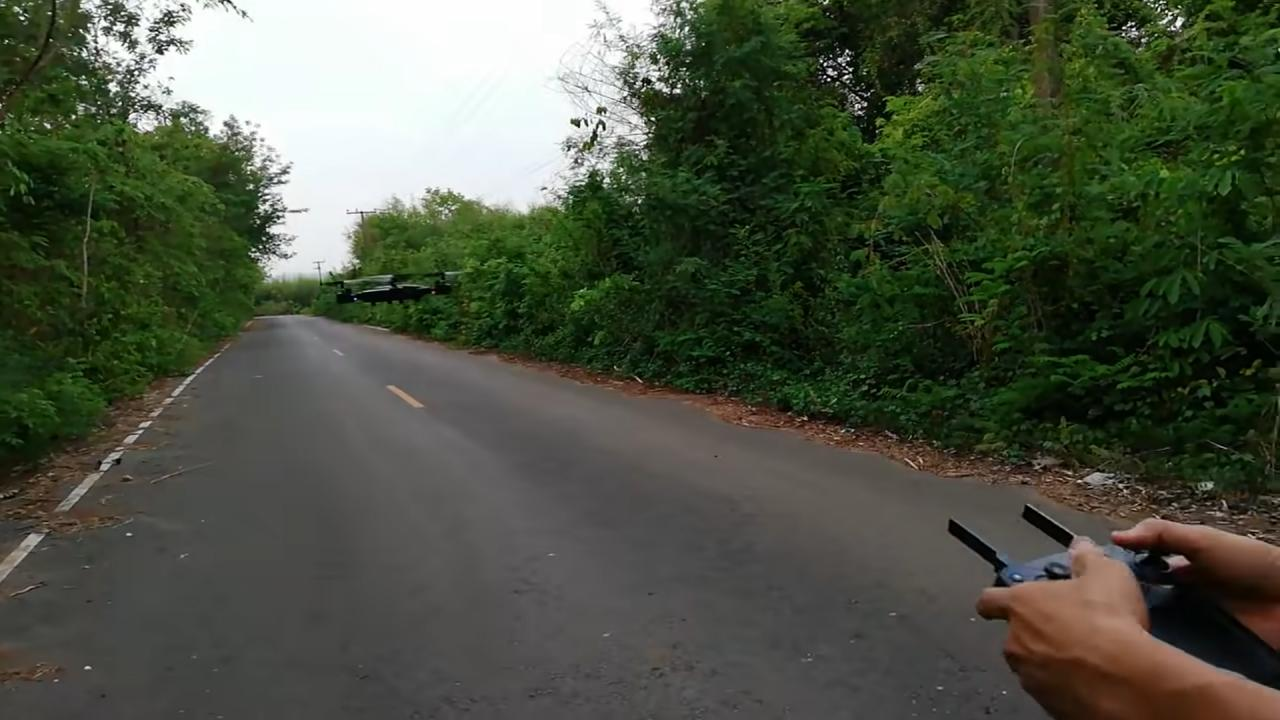Drone: (304, 262, 495, 316)
